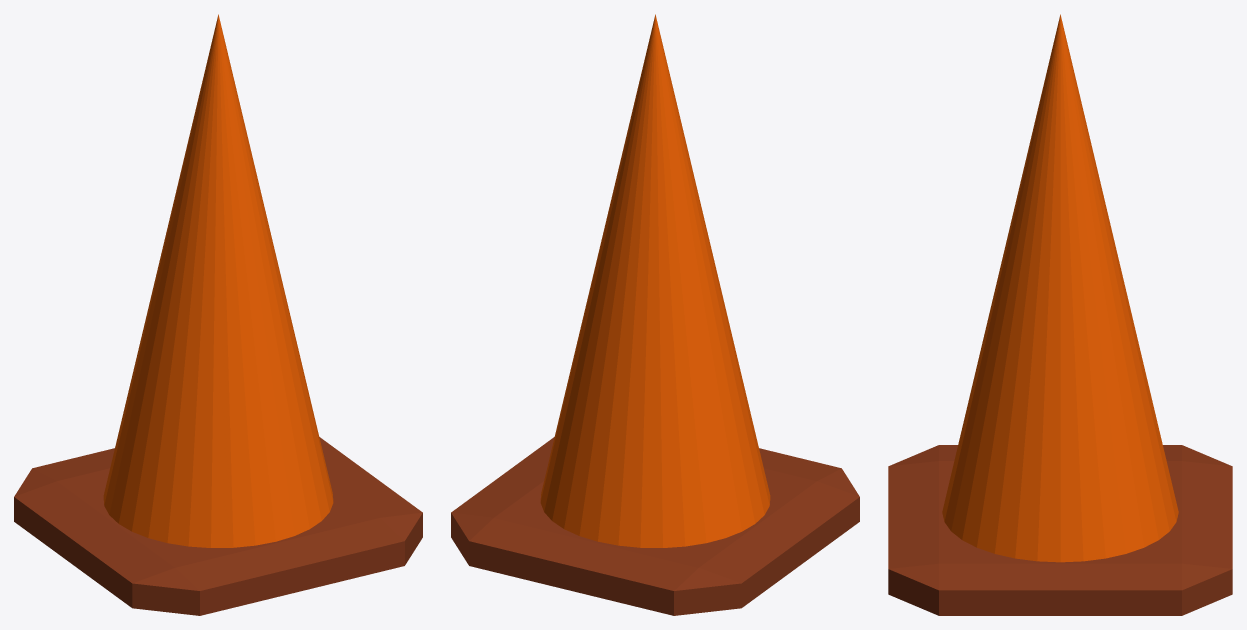
Rendered from (Noir)TrafficConeWIP.fbx.
3 views of the same model, side by side, from view 1: azimuth 30°, elevation 25°; view 2: azimuth 150°, elevation 25°; view 3: azimuth 270°, elevation 25° (orthographic). The views are drawn at different scales.
Parts seen in each view (by area): view 1: Cone; view 2: Cone; view 3: Cone.
Part boxes in pixels (x1,y1,x2,y2): Cone: (14,14,422,615); Cone: (451,14,859,615); Cone: (888,14,1232,615).
Bounding box in the file's own units: 83.6 × 143 × 83.6.
